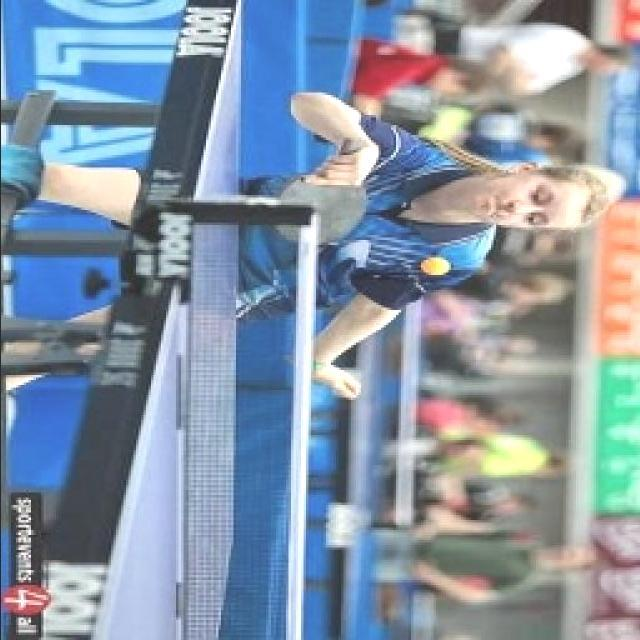oball: (415, 256, 448, 276)
